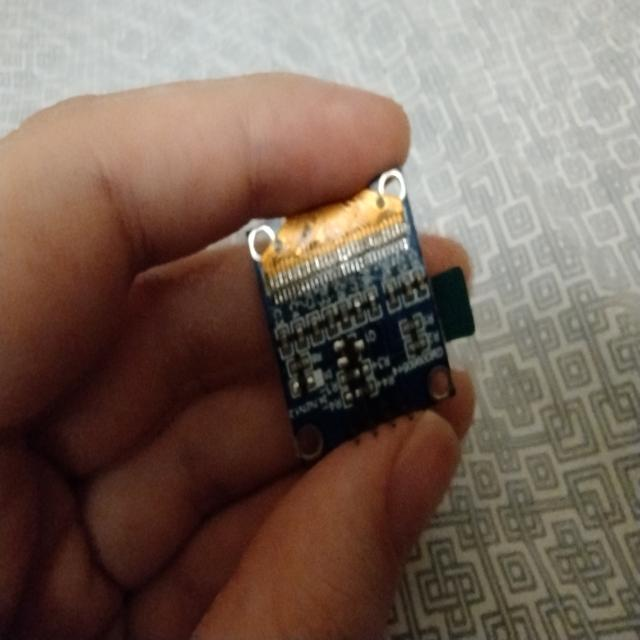oled: (250, 162, 476, 467)
